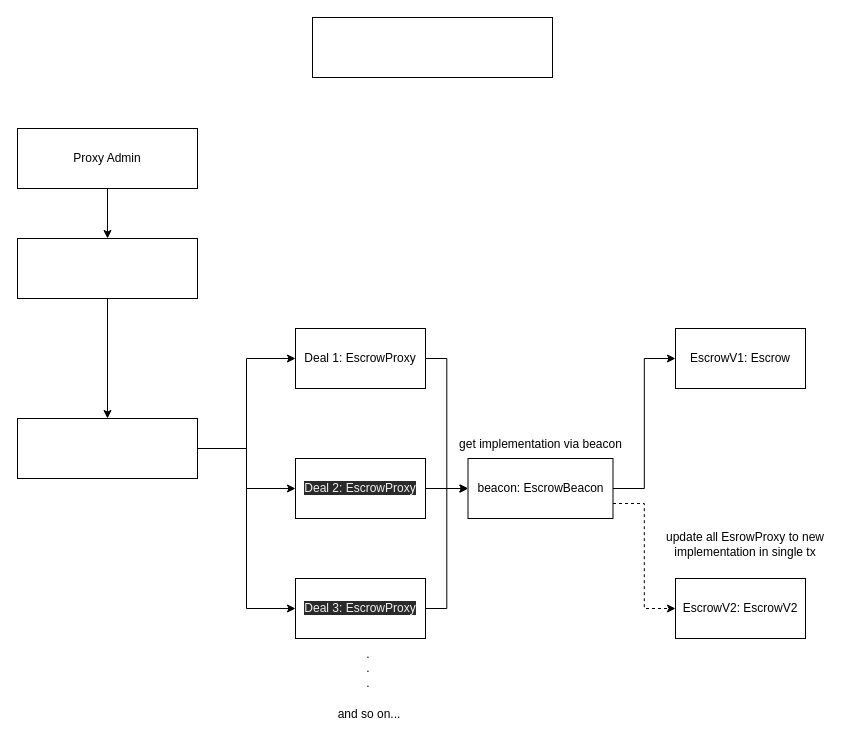
Some shapes in this 853 by 747 pixel diagram are drawn without their labels. Here are the shapes that lost their labels. From the top down, the centre of each, then its label:
At (432,47): "ESCROW SMART CONTRACT FLOW".
At (107,268): "TransparentUpgradeableProxy".
At (107,448): "factory: EscrowFactory".
